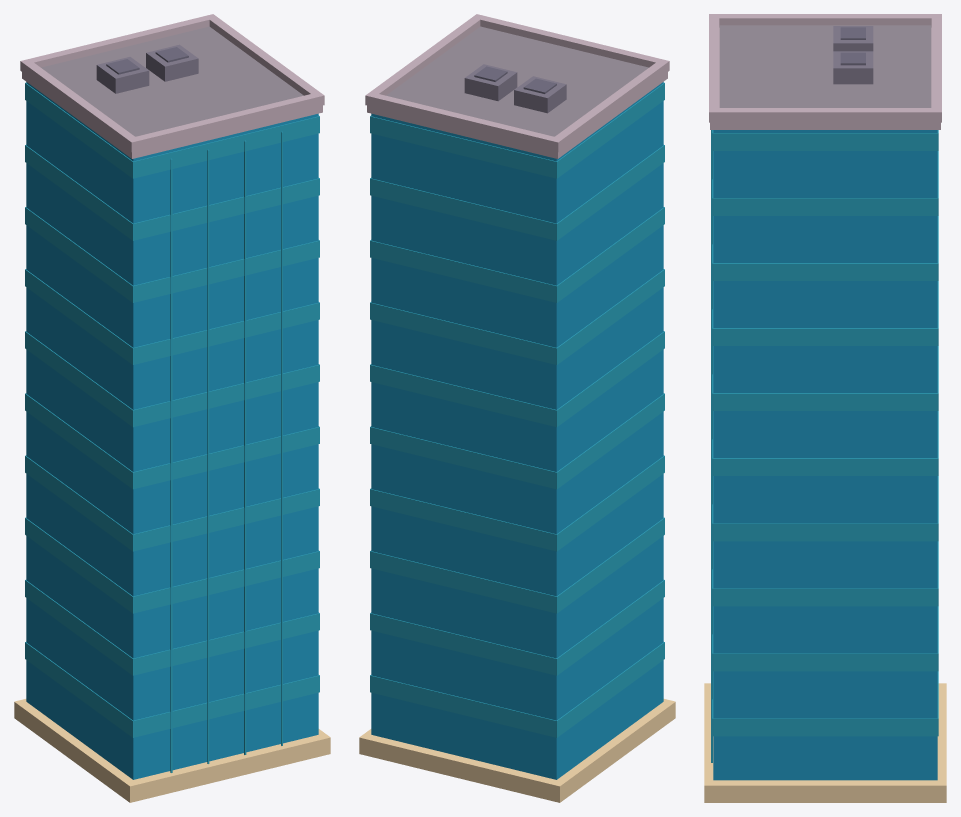
Rendered from Building_Blue_01.glb.
3 renders of one model, left to right at view 1: azimuth 30°, elevation 25°; view 2: azimuth 150°, elevation 25°; view 3: azimuth 270°, elevation 25°, orthographic. The views are drawn at different scales.
Visible parts, largest first — view 1: Building_Blue_01; view 2: Building_Blue_01; view 3: Building_Blue_01.
Boxes of the visible parts, x1=… form: Building_Blue_01: x1=14, y1=14, x2=330, y2=802; Building_Blue_01: x1=359, y1=14, x2=675, y2=802; Building_Blue_01: x1=704, y1=14, x2=946, y2=802.
Bounding box in the file's own units: 3.05 × 9.71 × 3.05.
